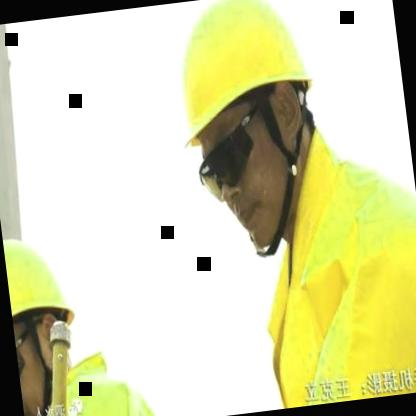helmet: (150, 0, 348, 272), (2, 226, 90, 416)
